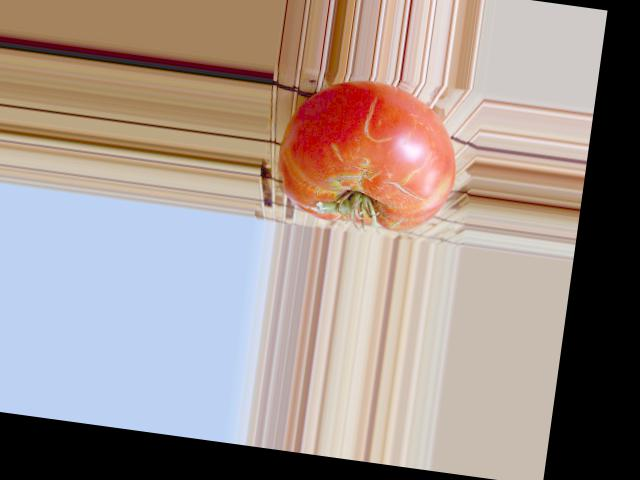tomato: (270, 72, 465, 237)
